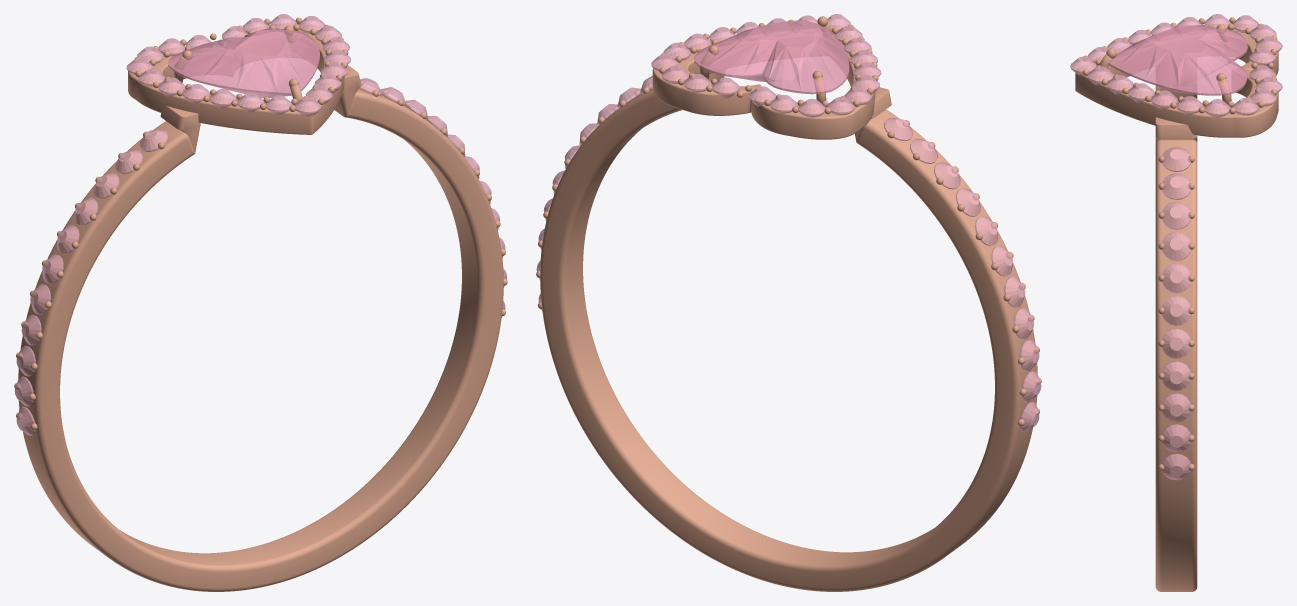
Rendered from J003-detail-v02.glb.
3 views of the same model, side by side, from view 1: azimuth 30°, elevation 25°; view 2: azimuth 150°, elevation 25°; view 3: azimuth 270°, elevation 25° (orthographic). The views are drawn at different scales.
Parts seen in each view (by area): view 1: J003_Metal, J003_AccentStones, J003_MainStone; view 2: J003_Metal, J003_AccentStones, J003_MainStone; view 3: J003_Metal, J003_AccentStones, J003_MainStone.
Part boxes in pixels (left/top/right/bottom): J003_Metal: left=14, top=17, right=507, bottom=591; J003_AccentStones: left=15, top=14, right=507, bottom=435; J003_MainStone: left=168, top=28, right=319, bottom=98; J003_Metal: left=536, top=16, right=1041, bottom=591; J003_AccentStones: left=536, top=14, right=1041, bottom=432; J003_MainStone: left=694, top=20, right=849, bottom=94; J003_Metal: left=1075, top=17, right=1278, bottom=591; J003_AccentStones: left=1070, top=14, right=1282, bottom=480; J003_MainStone: left=1108, top=25, right=1247, bottom=95.
Size of the model in its own units: 0.0185 by 0.0195 by 0.00711.
